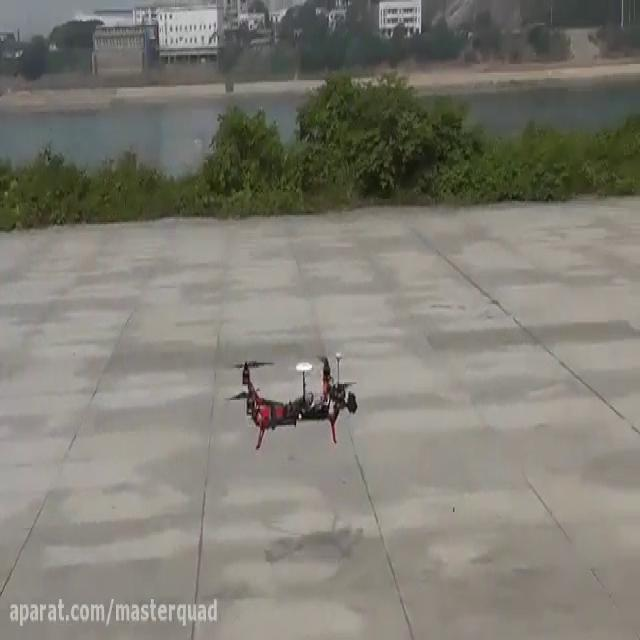drone: (220, 347, 362, 453)
